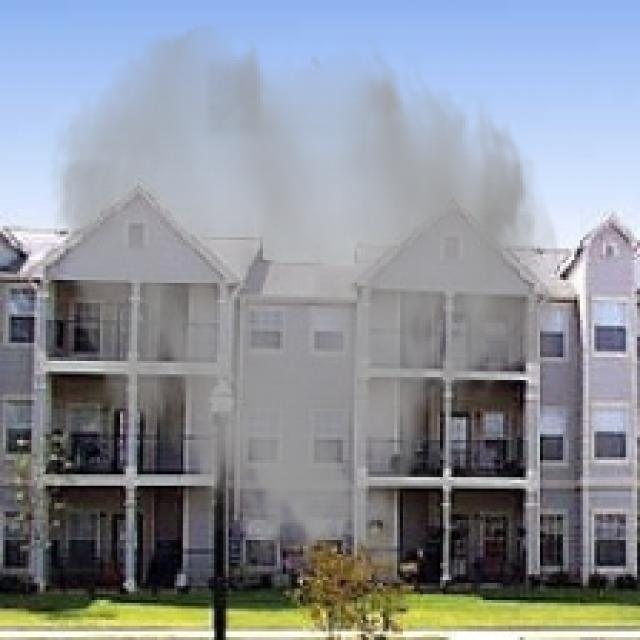Smoke: (46, 20, 566, 583)
